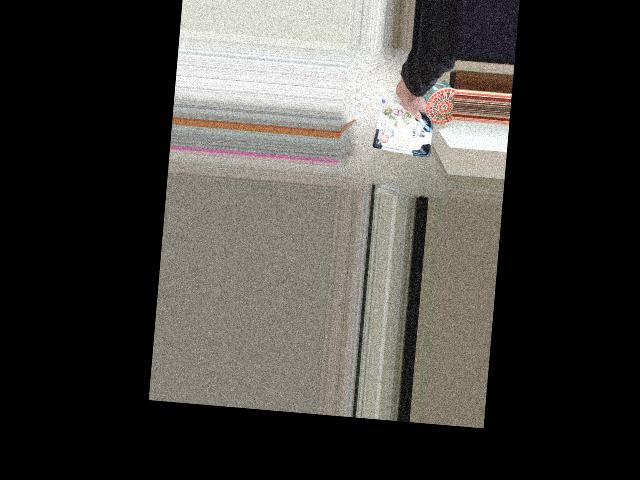cheese: (373, 81, 435, 145)
